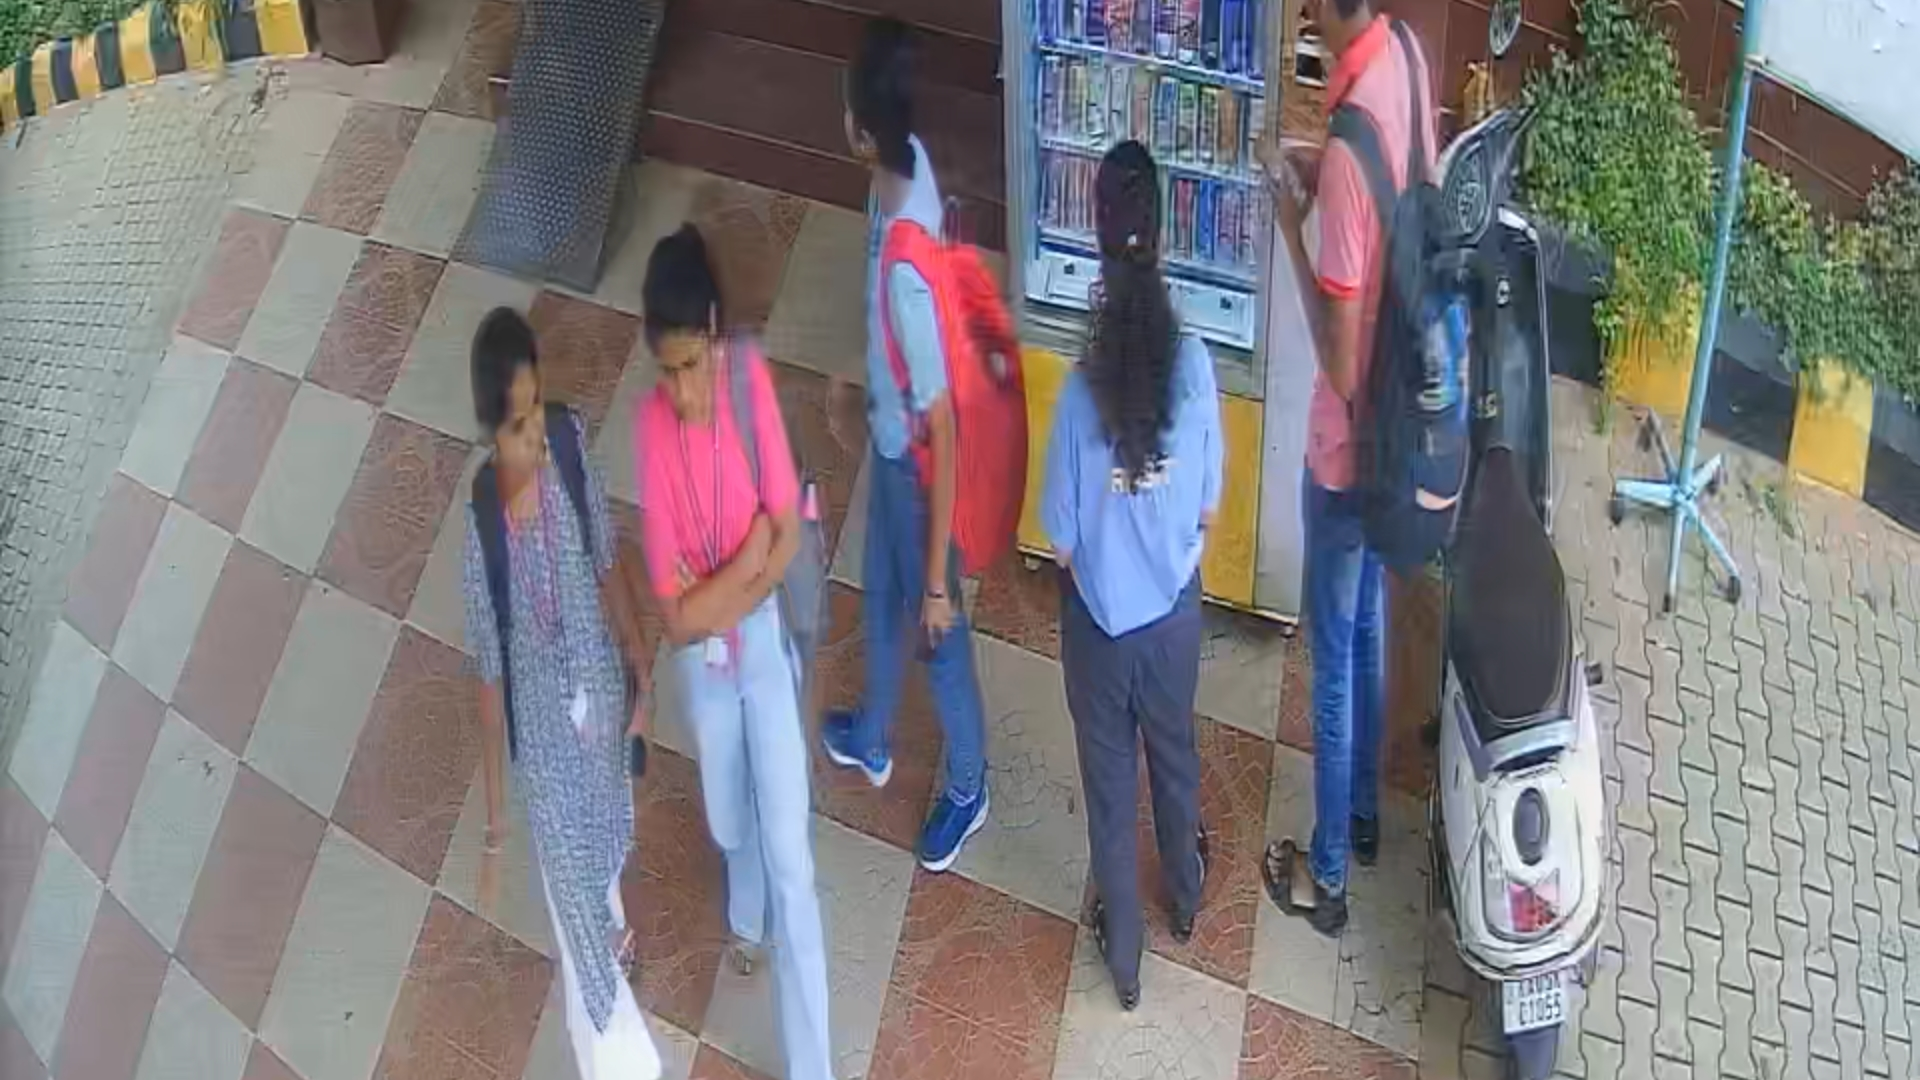not intruder: (613, 231, 840, 1080), (464, 297, 665, 1080)
